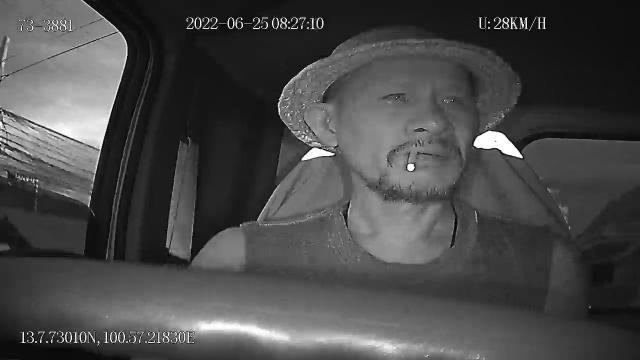SafeDriving: (377, 82, 416, 108), (434, 88, 466, 110)
Smoking: (404, 146, 420, 173)
